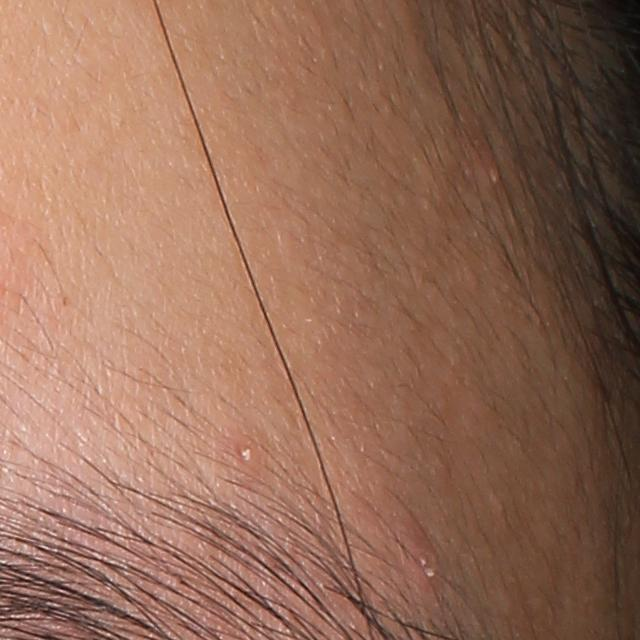papule: (408, 539, 444, 591)
